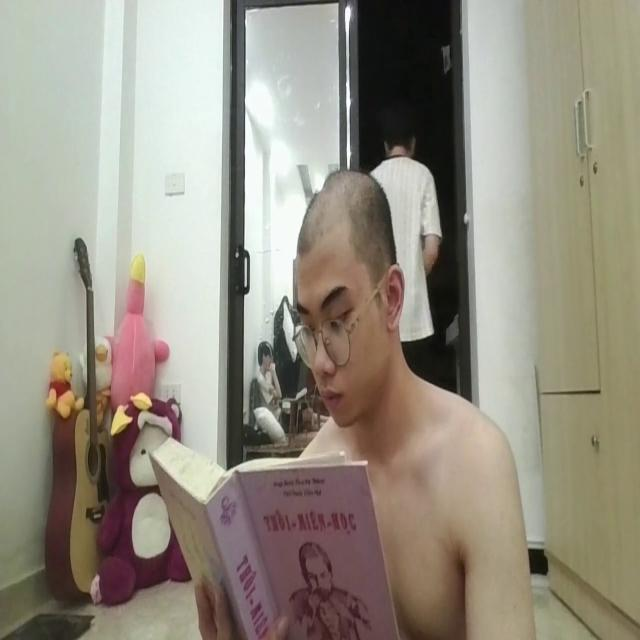book: (151, 428, 397, 640)
extra_person: (361, 107, 444, 365), (256, 318, 277, 415)
student: (294, 169, 534, 640)
